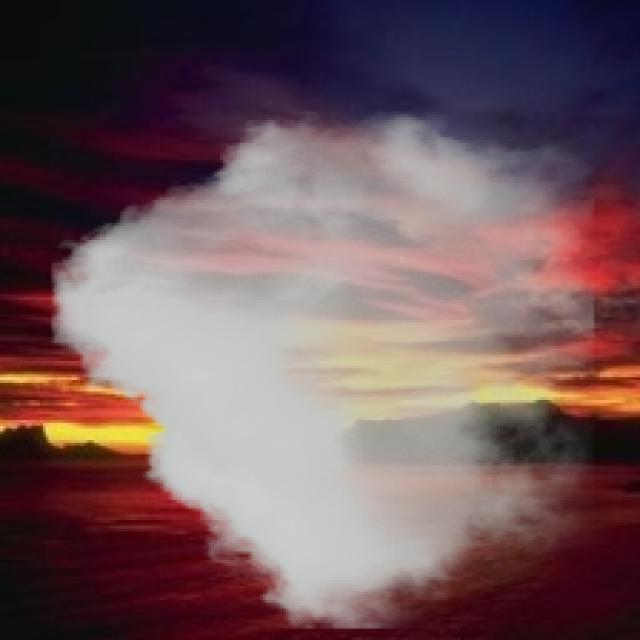smoke: (51, 111, 594, 628)
